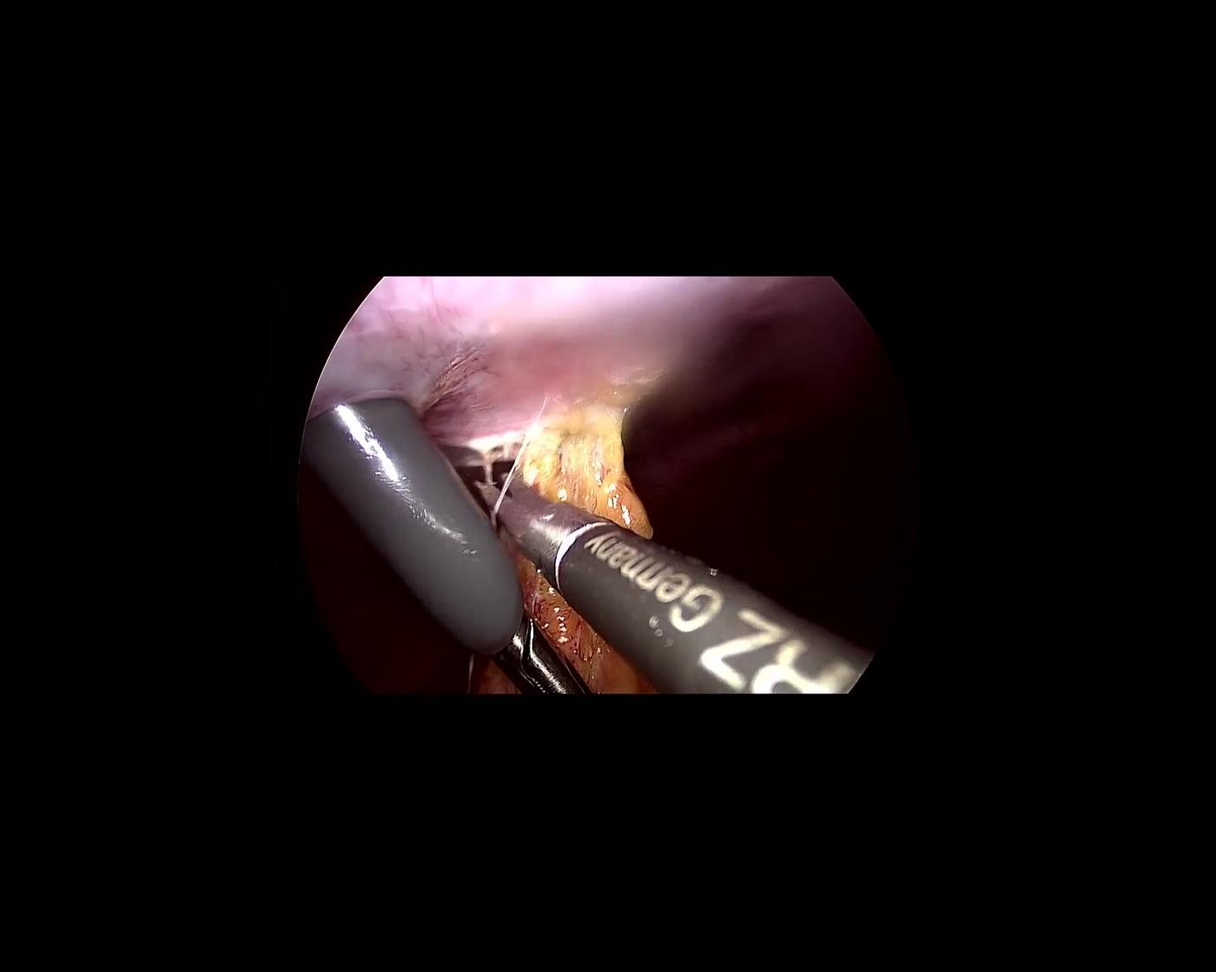Forceps: (480, 611, 591, 730)
